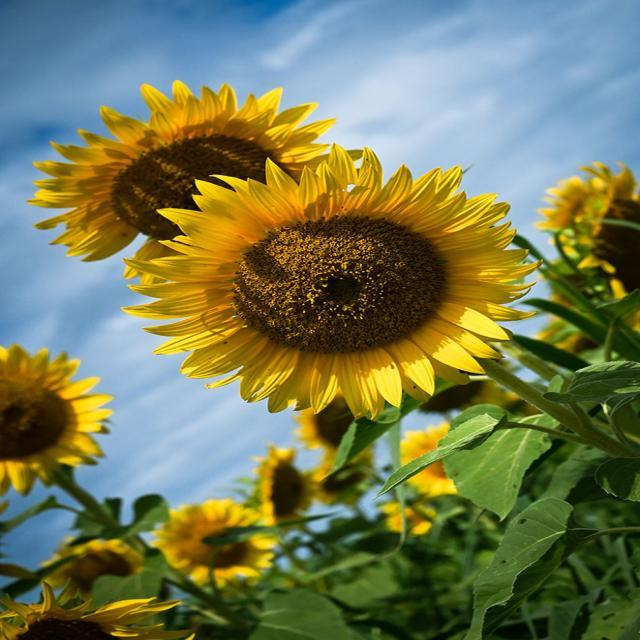sunflower: (120, 142, 543, 420), (25, 78, 363, 284), (0, 342, 114, 496), (534, 160, 639, 295), (0, 580, 196, 639), (150, 498, 278, 588), (39, 537, 148, 606), (415, 344, 502, 414), (256, 444, 321, 526), (398, 422, 458, 498), (297, 384, 367, 446), (308, 446, 374, 506), (378, 501, 436, 536), (560, 334, 602, 356)
